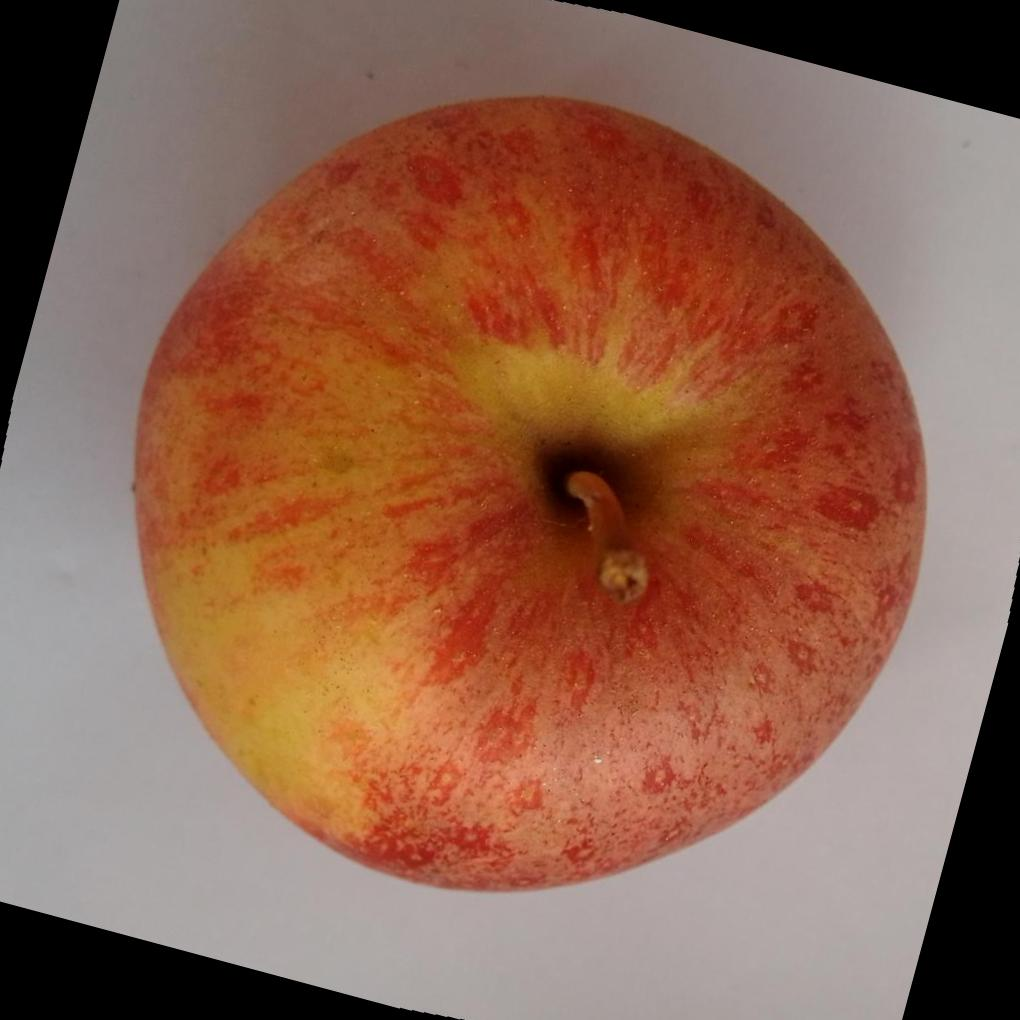FreshGuava: (128, 94, 928, 897)
